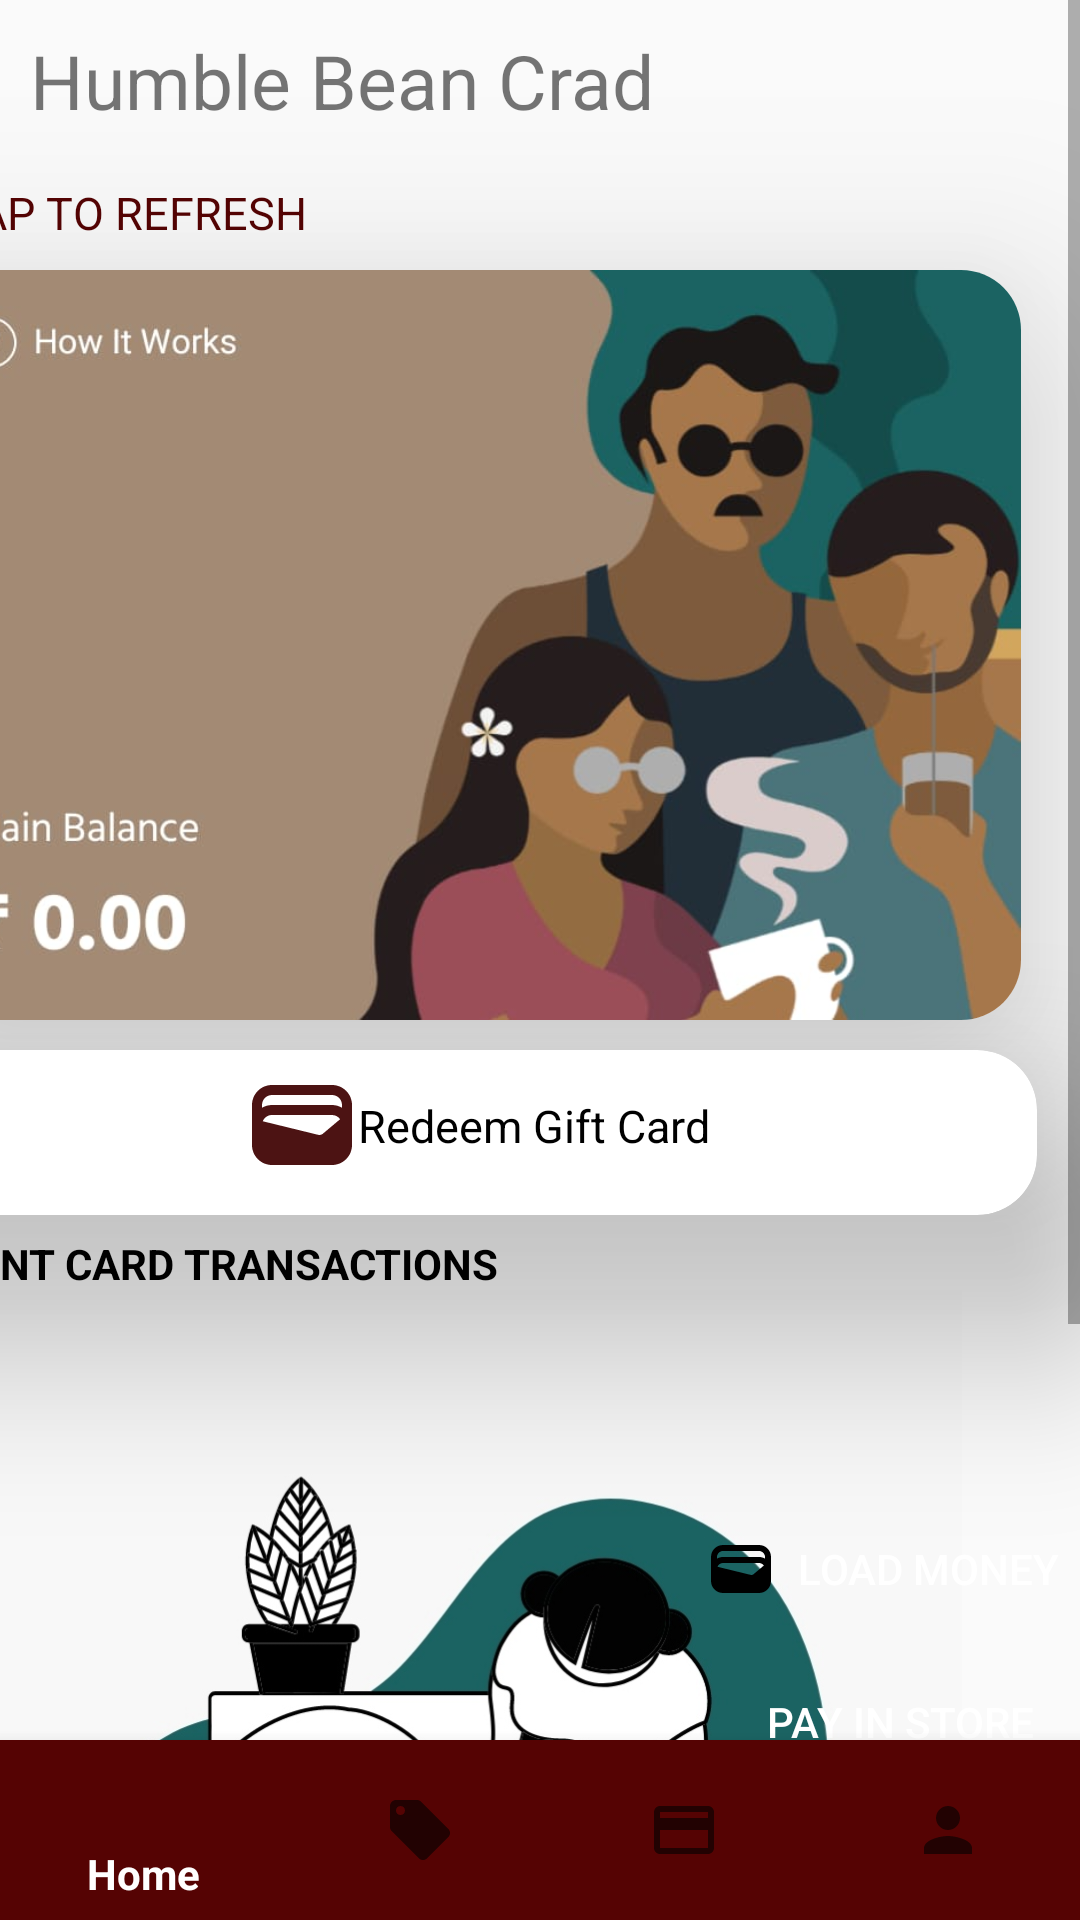

Icon click points for this 1080px×1920px phone screenshot, format (x,y):
wallet: (302,1125)
